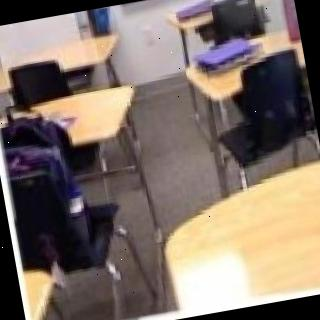smoke: (241, 0, 311, 107)
